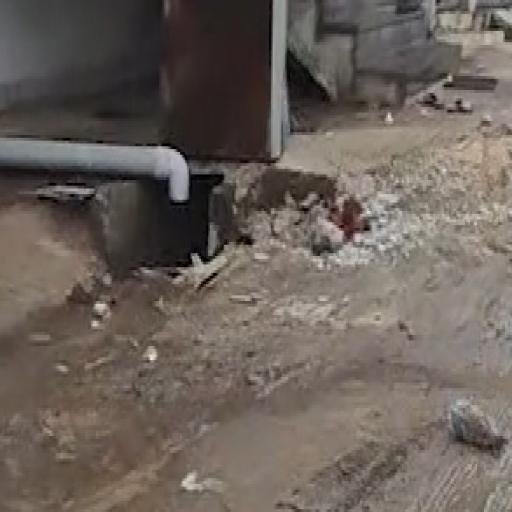drainage_issue: (101, 124, 391, 375)
